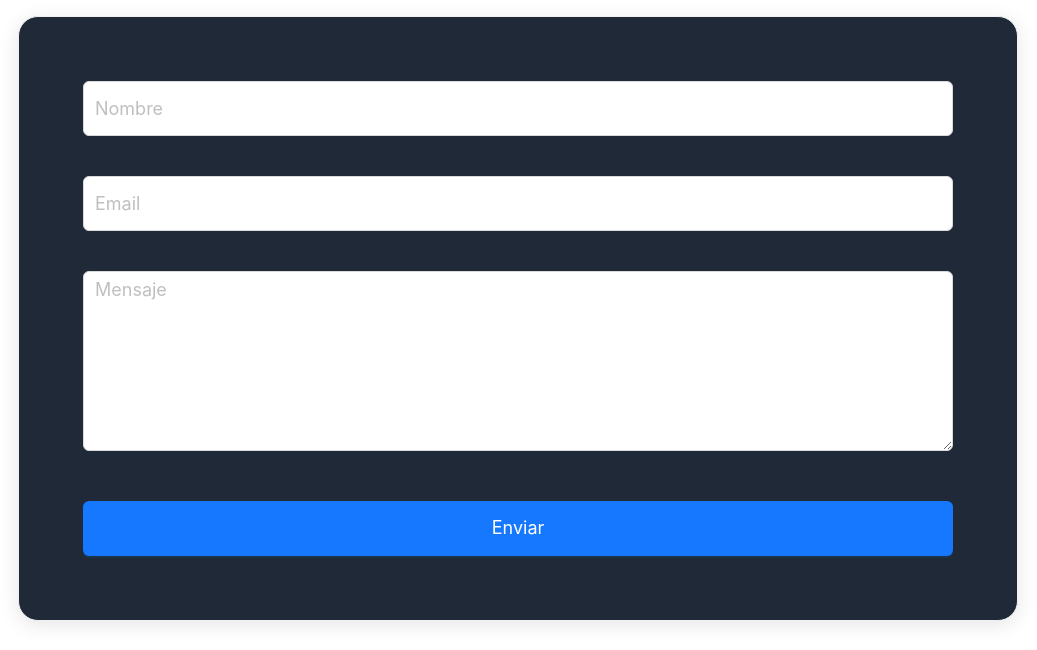
it: ContactFormCard › muestra errores si los campos son inválidos
The width and height of the screenshot is (1037, 650).
Click the button "Enviar" at (518, 528), box [83,501,953,556]
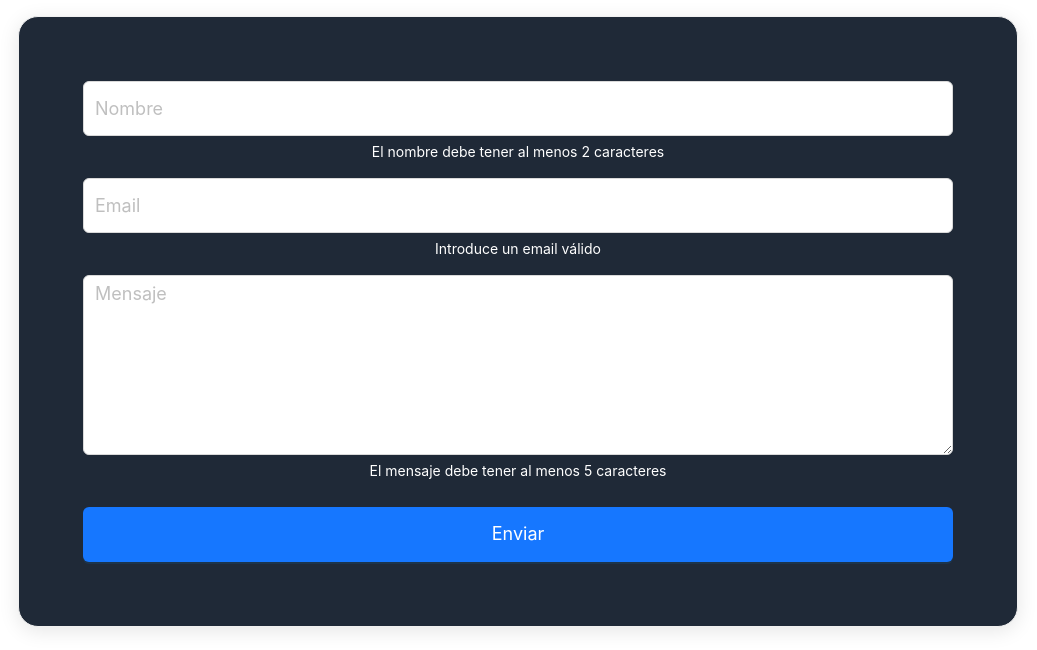
Now the text "El nombre debe tener al menos 2 caracteres" is shown, box [372,143,664,160]
Now the text "Introduce un email válido" is shown, box [435,240,601,257]
Now the text "El mensaje debe tener al menos 5 caracteres" is shown, box [370,462,666,479]
